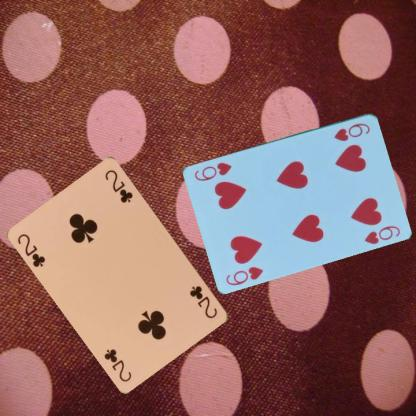2c: (187, 283, 219, 320), (15, 231, 47, 268)
6h: (223, 264, 265, 286), (331, 120, 372, 142)
